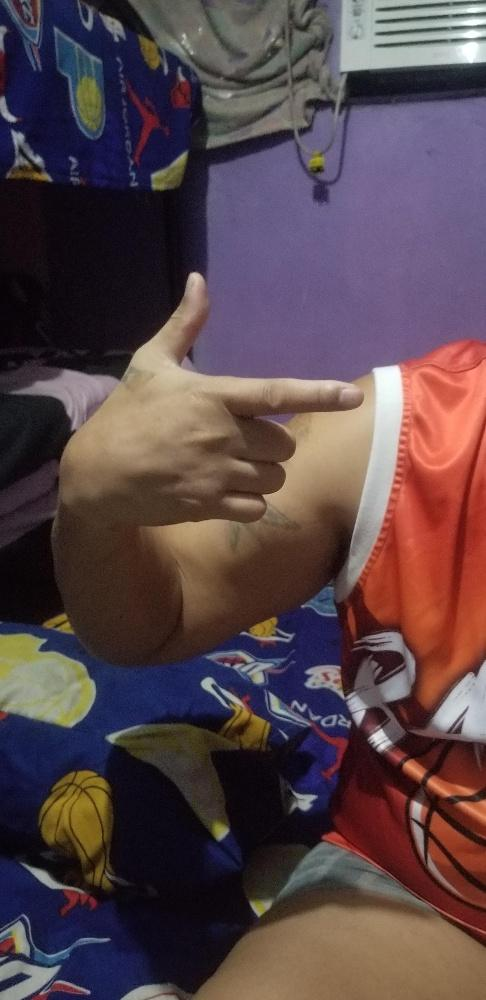g: (57, 268, 364, 528)
